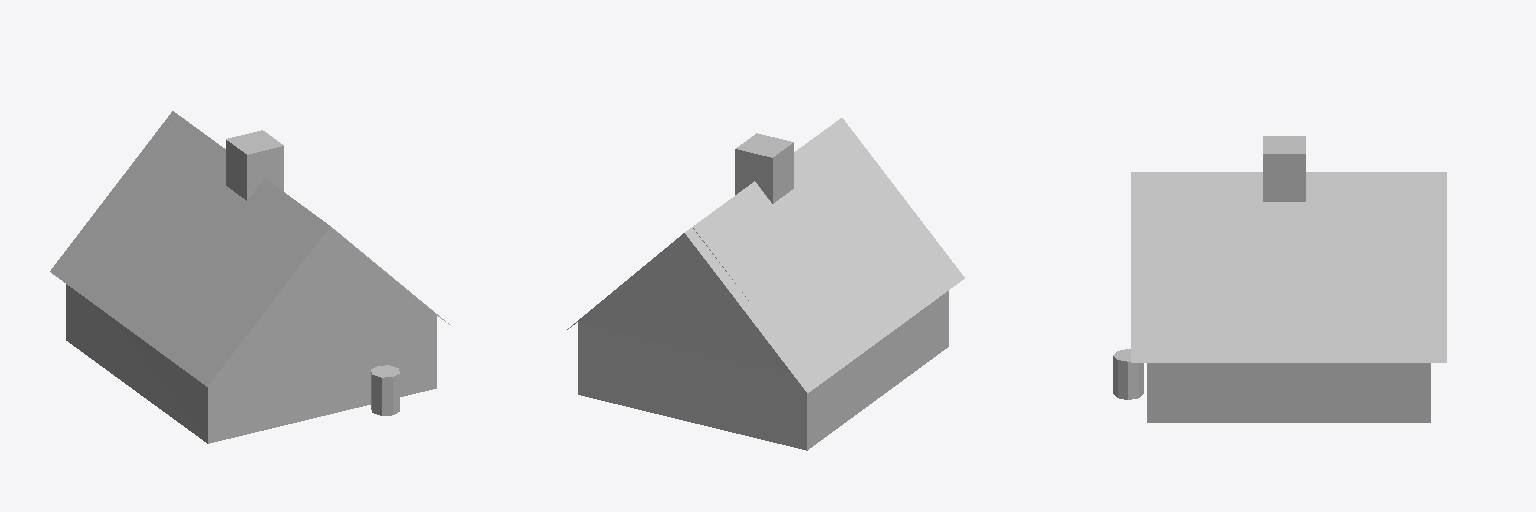
File: House_Two.obj
3 renders of one model, left to right at view 1: azimuth 30°, elevation 25°; view 2: azimuth 150°, elevation 25°; view 3: azimuth 270°, elevation 25°, orthographic.
Visible parts, largest first — view 1: House_Two_Mesh.005; view 2: House_Two_Mesh.005; view 3: House_Two_Mesh.005.
Boxes of the visible parts, <box> form: House_Two_Mesh.005: <box>50,111,449,443</box>; House_Two_Mesh.005: <box>567,118,964,450</box>; House_Two_Mesh.005: <box>1113,136,1446,422</box>.
Size of the model in its own units: 3.97 by 3.44 by 4.66.